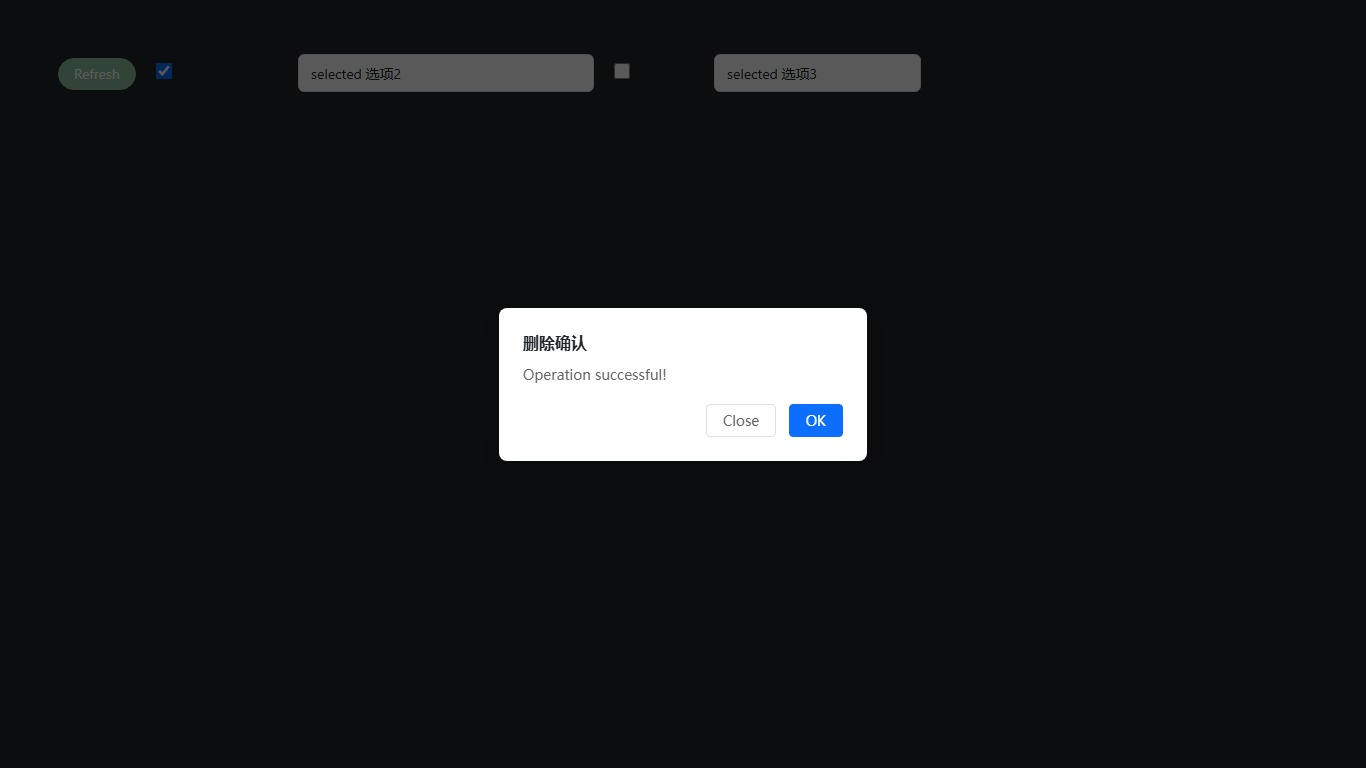button: (58, 57, 136, 90), (706, 403, 776, 437), (789, 403, 843, 437)
checkbox: (156, 63, 172, 78), (614, 63, 630, 78)
icon: (180, 61, 278, 80), (638, 61, 694, 80)
modal: (0, 0, 1366, 768)
radio: (156, 61, 278, 80), (614, 61, 694, 80)
select: (298, 54, 594, 92), (714, 54, 921, 92)
